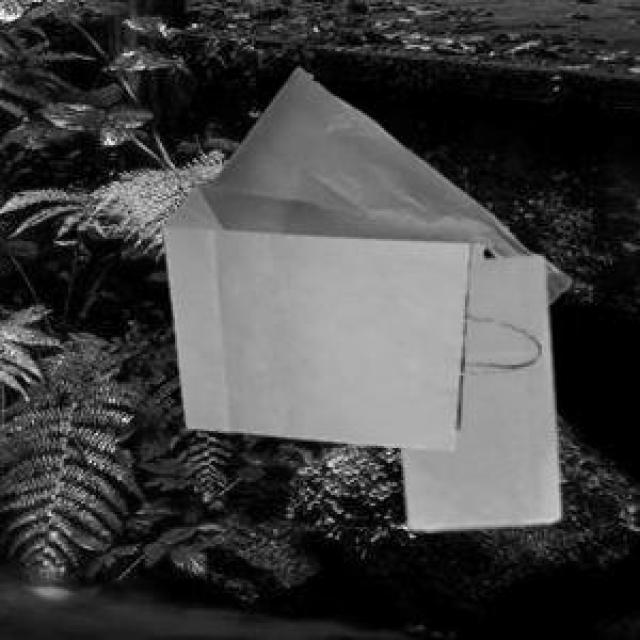paper: (160, 181, 538, 446), (399, 252, 557, 527)
